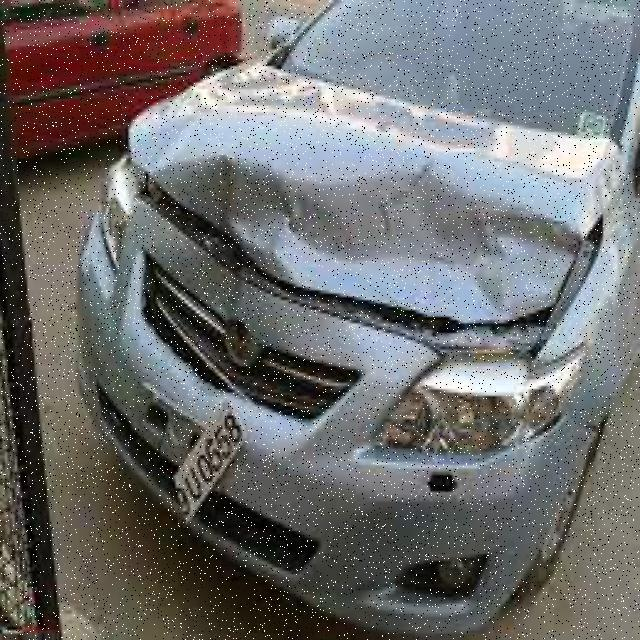Headlight-Damage: (366, 346, 580, 468)
bonnet-dent: (130, 72, 610, 297)
